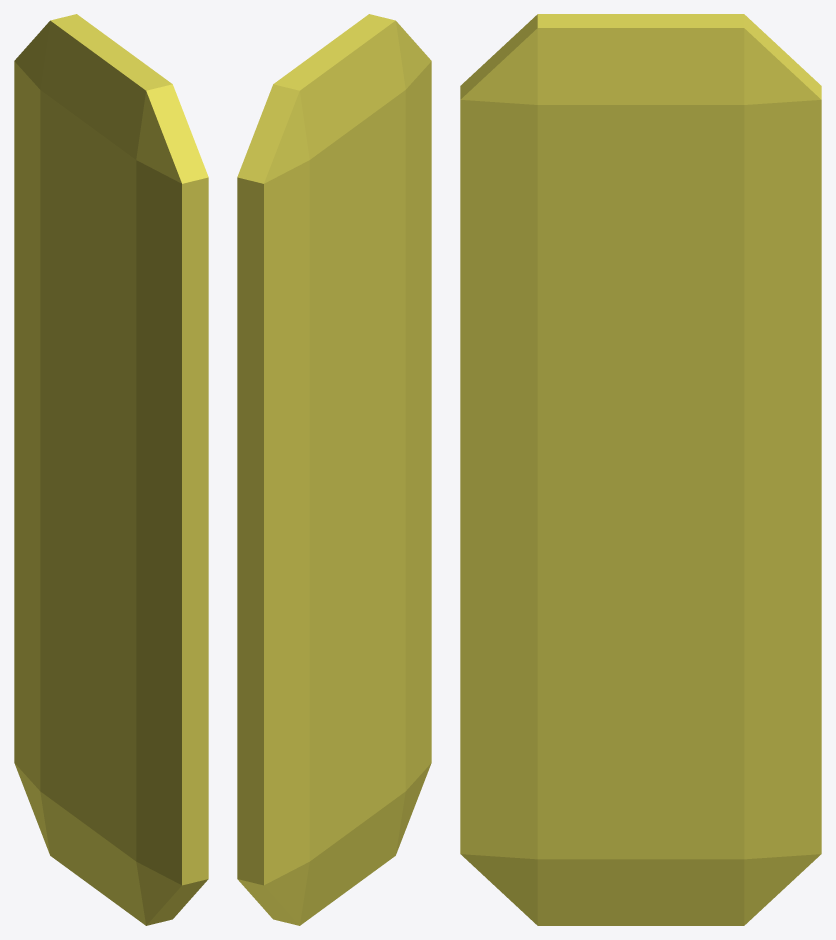
3 views of the same model, side by side, from view 1: azimuth 30°, elevation 25°; view 2: azimuth 150°, elevation 25°; view 3: azimuth 270°, elevation 25° (orthographic). The views are drawn at different scales.
Parts seen in each view (by area): view 1: Cube; view 2: Cube; view 3: Cube.
Boxes of the visible parts, x1=… form: Cube: x1=14, y1=14, x2=208, y2=925; Cube: x1=237, y1=14, x2=431, y2=925; Cube: x1=460, y1=14, x2=821, y2=925.
Bounding box in the file's own units: 0.3203 × 5.49 × 2.
Materials: 1 (1 with a texture image).
